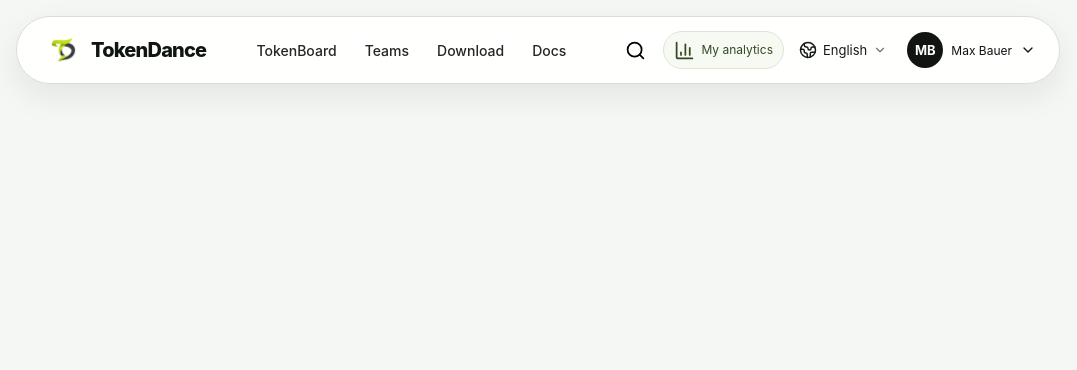
Test: Navigation & Locale Switching Tests › opens the authenticated user menu and closes it with Escape
The width and height of the screenshot is (1077, 370).
Click the button with aria-label "User menu" at (973, 50), box [904,29,1042,71]
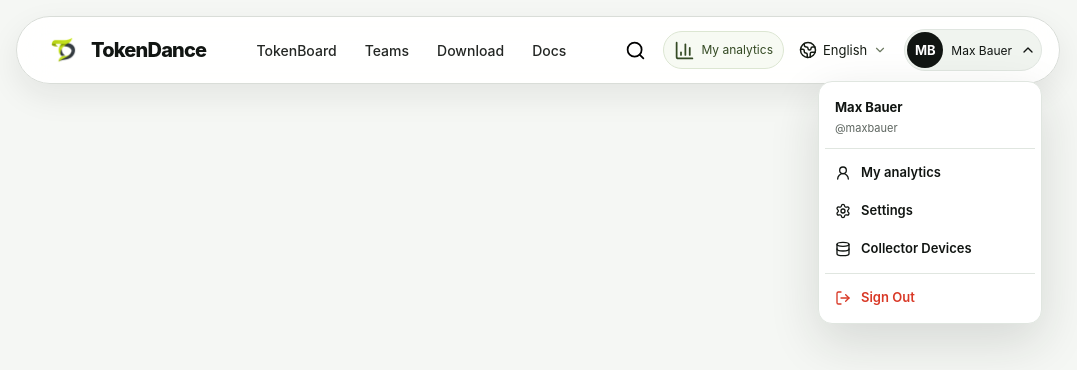
Result: the button with aria-label "User menu" is expanded at [904,29,1042,71]
Result: the menu is shown at [818,81,1042,324]
Result: the menu item "Sign Out" is shown at [825,279,1035,317]
Press Escape
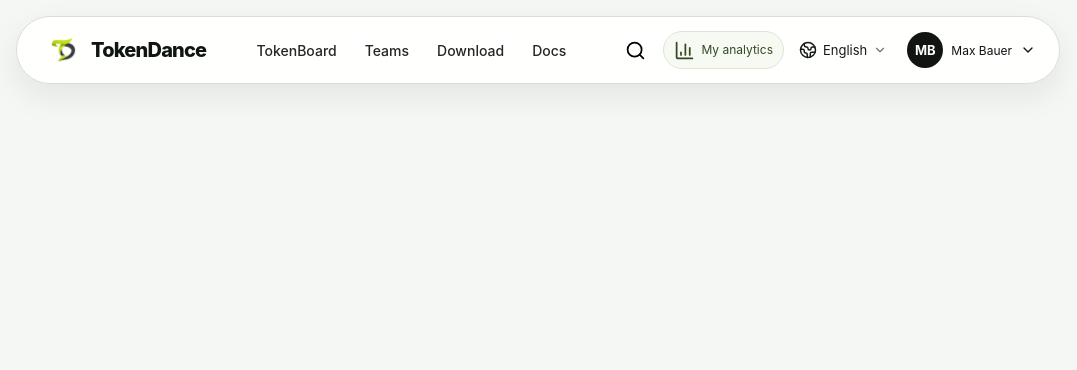
Result: the menu is gone
Result: the button with aria-label "User menu" is collapsed at [904,29,1042,71]
